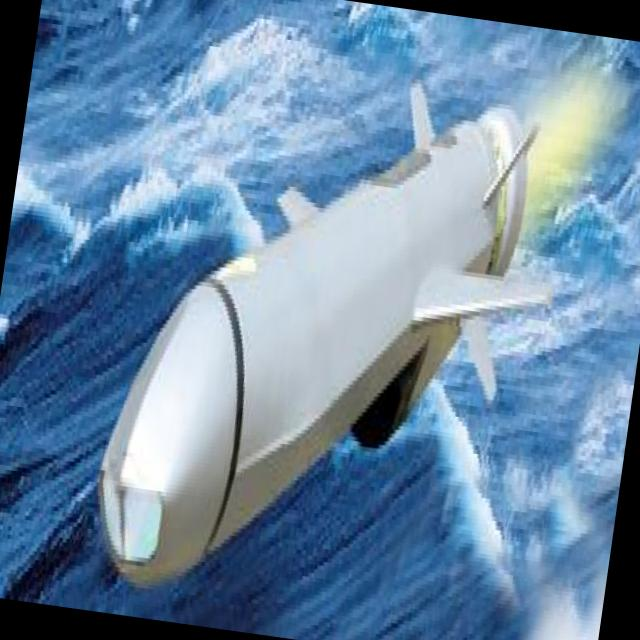rocket: (87, 46, 551, 637)
